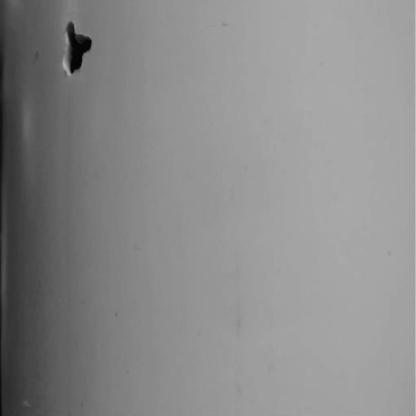kongdong: (52, 14, 101, 78)
